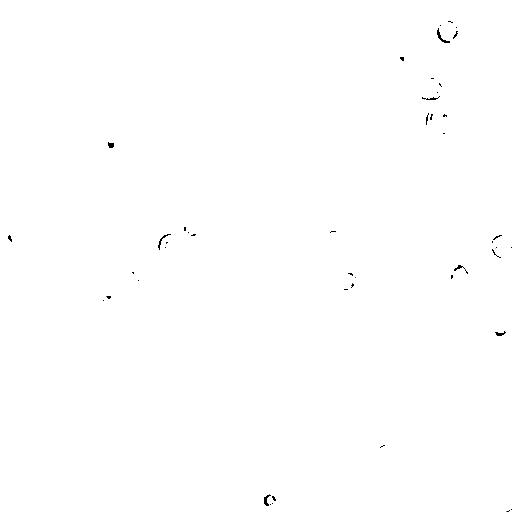micro-algae: (181, 81, 316, 208), (197, 102, 277, 192), (223, 54, 289, 123), (84, 257, 133, 301), (79, 131, 117, 175), (387, 281, 419, 315), (183, 477, 215, 509), (423, 105, 457, 135), (329, 287, 359, 318), (303, 483, 336, 511), (145, 247, 174, 276), (157, 231, 185, 259), (448, 261, 473, 291), (97, 131, 124, 158), (387, 45, 415, 70), (415, 77, 444, 101), (488, 232, 511, 262), (118, 337, 143, 362), (150, 345, 175, 370), (365, 354, 390, 378), (12, 453, 36, 477), (335, 269, 359, 293), (437, 19, 460, 44), (29, 0, 52, 22), (372, 442, 396, 463), (141, 439, 162, 461), (260, 488, 279, 510), (489, 320, 510, 339), (171, 99, 189, 121), (333, 341, 353, 360), (323, 249, 345, 264), (183, 220, 201, 238), (5, 227, 24, 244), (324, 229, 344, 245), (367, 237, 384, 255), (135, 218, 152, 235), (502, 261, 511, 293), (150, 314, 168, 330), (499, 491, 511, 509), (126, 269, 141, 283), (101, 293, 115, 307), (11, 0, 24, 9), (321, 0, 336, 6)
